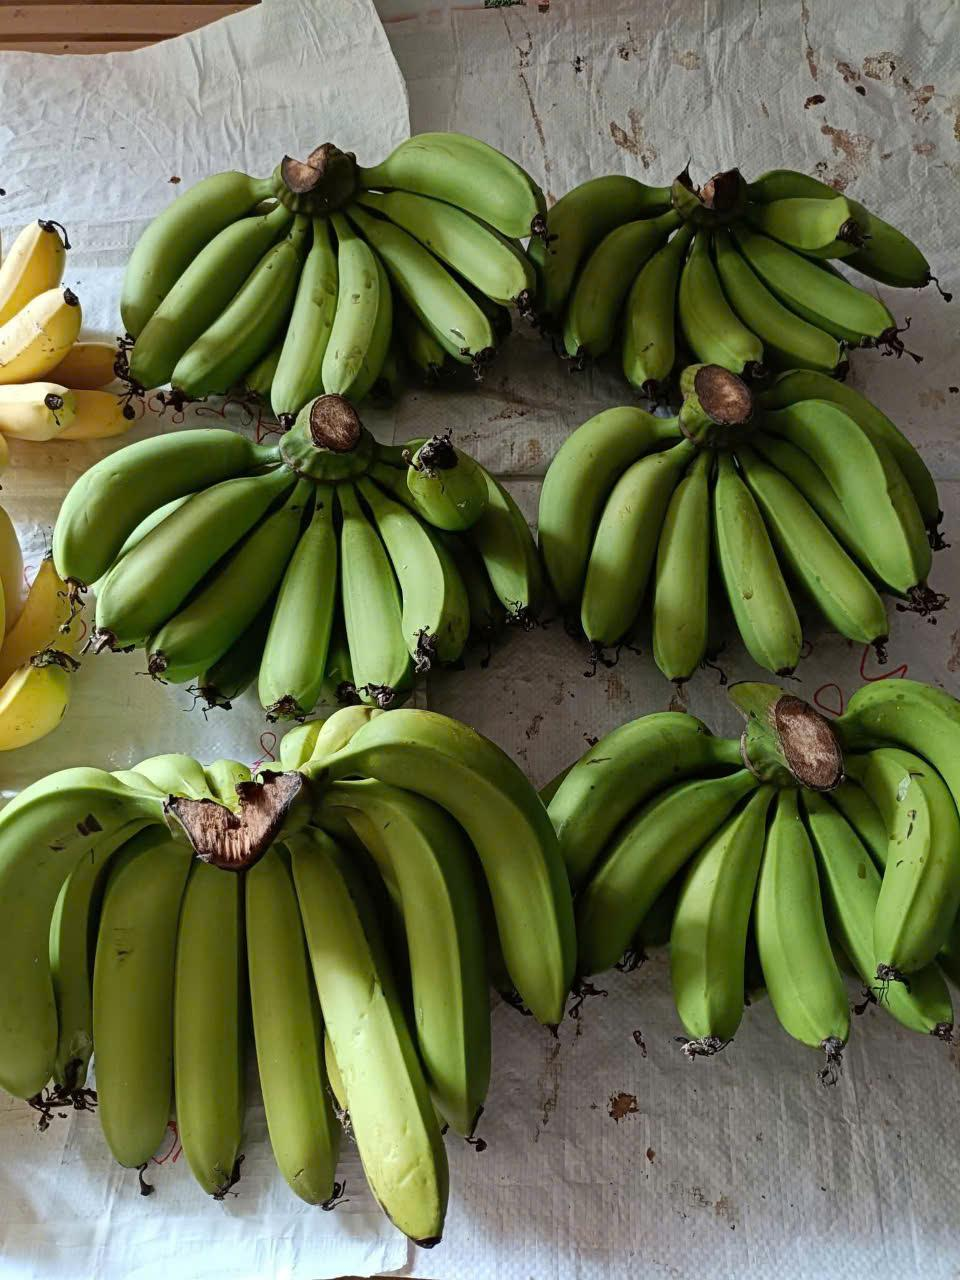banana: (250, 723, 568, 1255), (40, 430, 540, 740), (137, 103, 552, 438), (547, 370, 947, 673), (0, 746, 266, 1188), (663, 683, 960, 1056), (673, 150, 903, 377)
